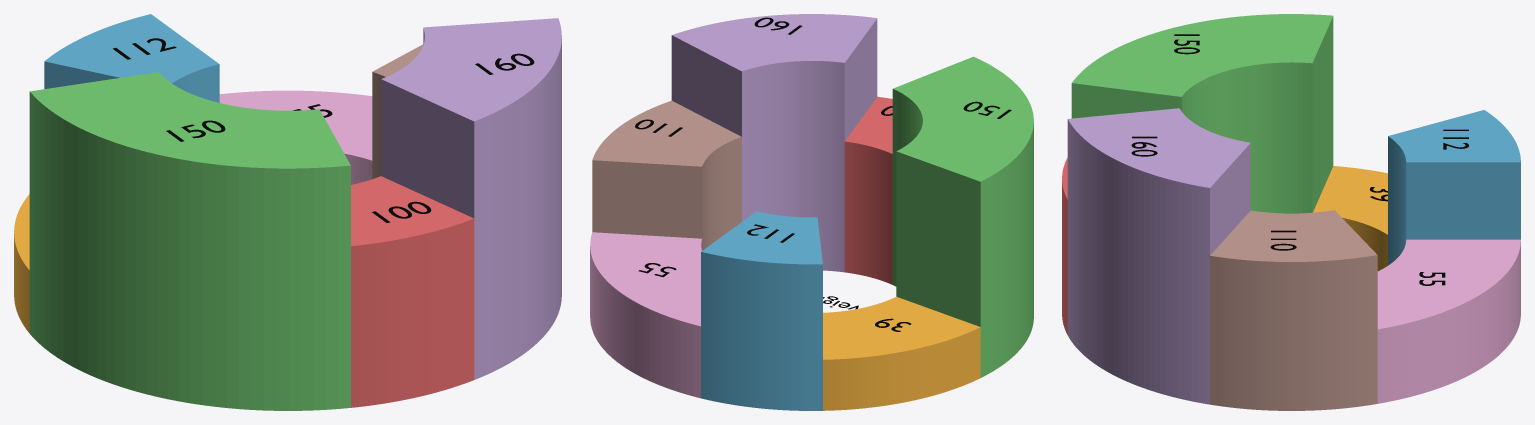
File: fruits.glb
3 views of the same model, side by side, from view 1: azimuth 30°, elevation 25°; view 2: azimuth 150°, elevation 25°; view 3: azimuth 270°, elevation 25° (orthographic). The views are drawn at different scales.
Visible parts, largest first — view 1: DataRep.arc.002, DataRep.arc.004, DataRep.arc.003, DataRep.arc, DataRep.arc.006, DataRep.arc.001, DataRep.arc.005; view 2: DataRep.arc.002, DataRep.arc.004, DataRep.arc, DataRep.arc.005, DataRep.arc.006, DataRep.arc.001, DataRep.arc.003; view 3: DataRep.arc.004, DataRep.arc.005, DataRep.arc.002, DataRep.arc.006, DataRep.arc, DataRep.arc.001, DataRep.arc.003.
Part boxes in pixels (bbox=[...]): DataRep.arc.002: bbox=[29, 72, 350, 410]; DataRep.arc.004: bbox=[381, 18, 561, 379]; DataRep.arc.003: bbox=[351, 176, 474, 407]; DataRep.arc: bbox=[44, 14, 219, 102]; DataRep.arc.006: bbox=[219, 90, 372, 184]; DataRep.arc.001: bbox=[14, 194, 29, 332]; DataRep.arc.005: bbox=[372, 44, 423, 178]; DataRep.arc.002: bbox=[892, 56, 1033, 377]; DataRep.arc.004: bbox=[671, 14, 877, 272]; DataRep.arc: bbox=[701, 211, 822, 410]; DataRep.arc.005: bbox=[592, 100, 741, 250]; DataRep.arc.006: bbox=[590, 232, 701, 398]; DataRep.arc.001: bbox=[823, 296, 980, 410]; DataRep.arc.003: bbox=[844, 96, 892, 284]; DataRep.arc.004: bbox=[1067, 108, 1250, 404]; DataRep.arc.005: bbox=[1210, 210, 1377, 410]; DataRep.arc.002: bbox=[1071, 14, 1333, 213]; DataRep.arc.006: bbox=[1377, 239, 1520, 403]; DataRep.arc: bbox=[1388, 110, 1520, 265]; DataRep.arc.001: bbox=[1313, 166, 1387, 271]; DataRep.arc.003: bbox=[1062, 158, 1067, 334].
Size of what is drawn, in the model's own units: 0.48 by 0.255 by 0.48.
